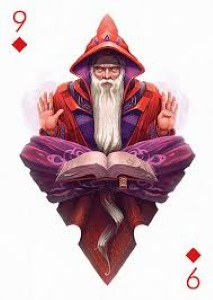NineOfDiamonds: (1, 3, 207, 296)
